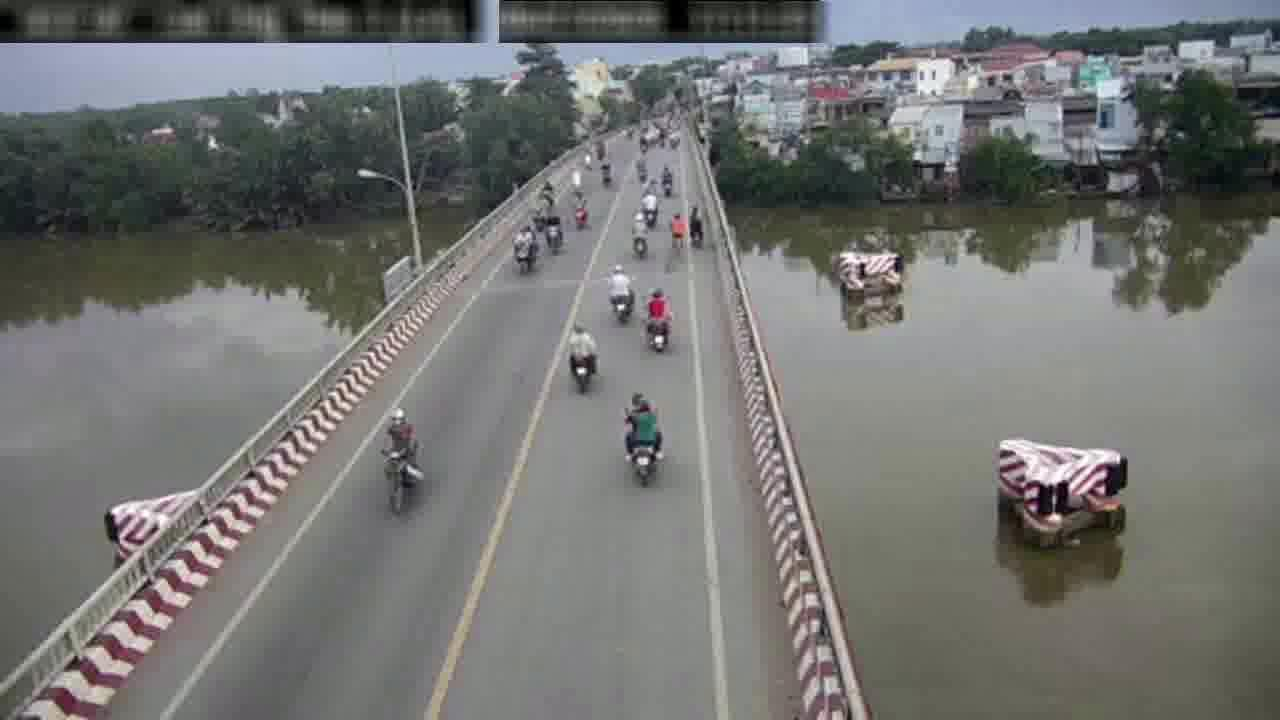motorbike: (380, 401, 421, 516), (625, 383, 665, 490), (564, 312, 595, 393), (644, 289, 672, 358), (607, 265, 630, 325), (512, 222, 537, 277), (626, 210, 649, 261), (545, 212, 565, 253)
